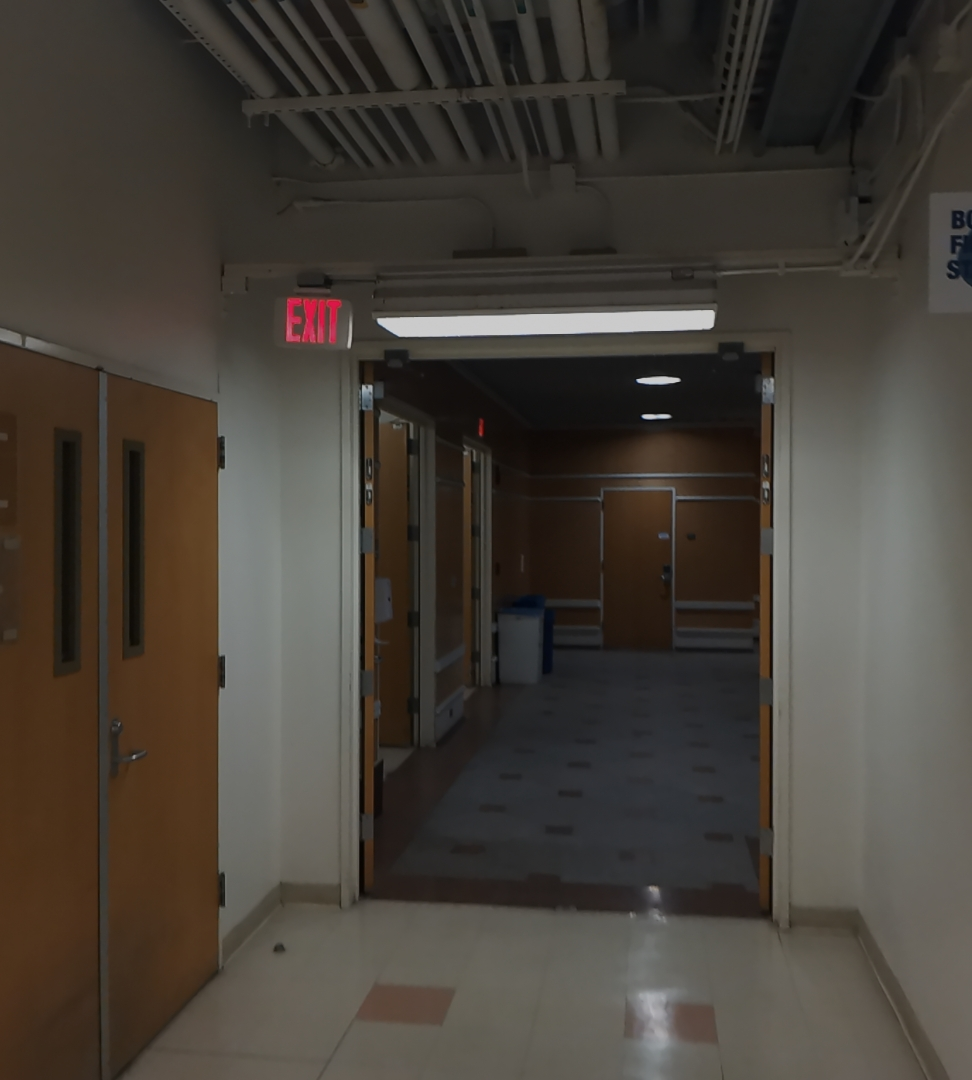emergency_exit: (273, 291, 355, 352)
